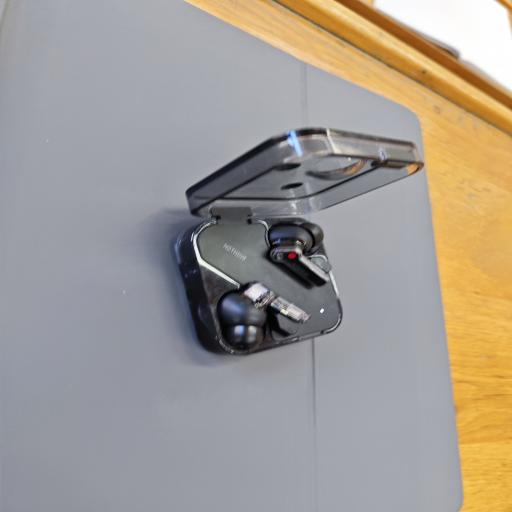Headphones: (163, 121, 427, 362)
